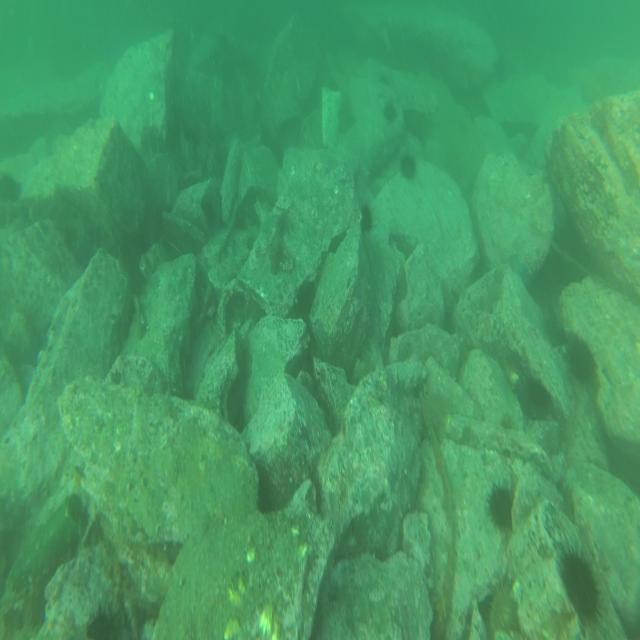echinus: (562, 549, 600, 612), (566, 332, 599, 388), (487, 481, 515, 532), (358, 199, 374, 231), (400, 153, 417, 180)
